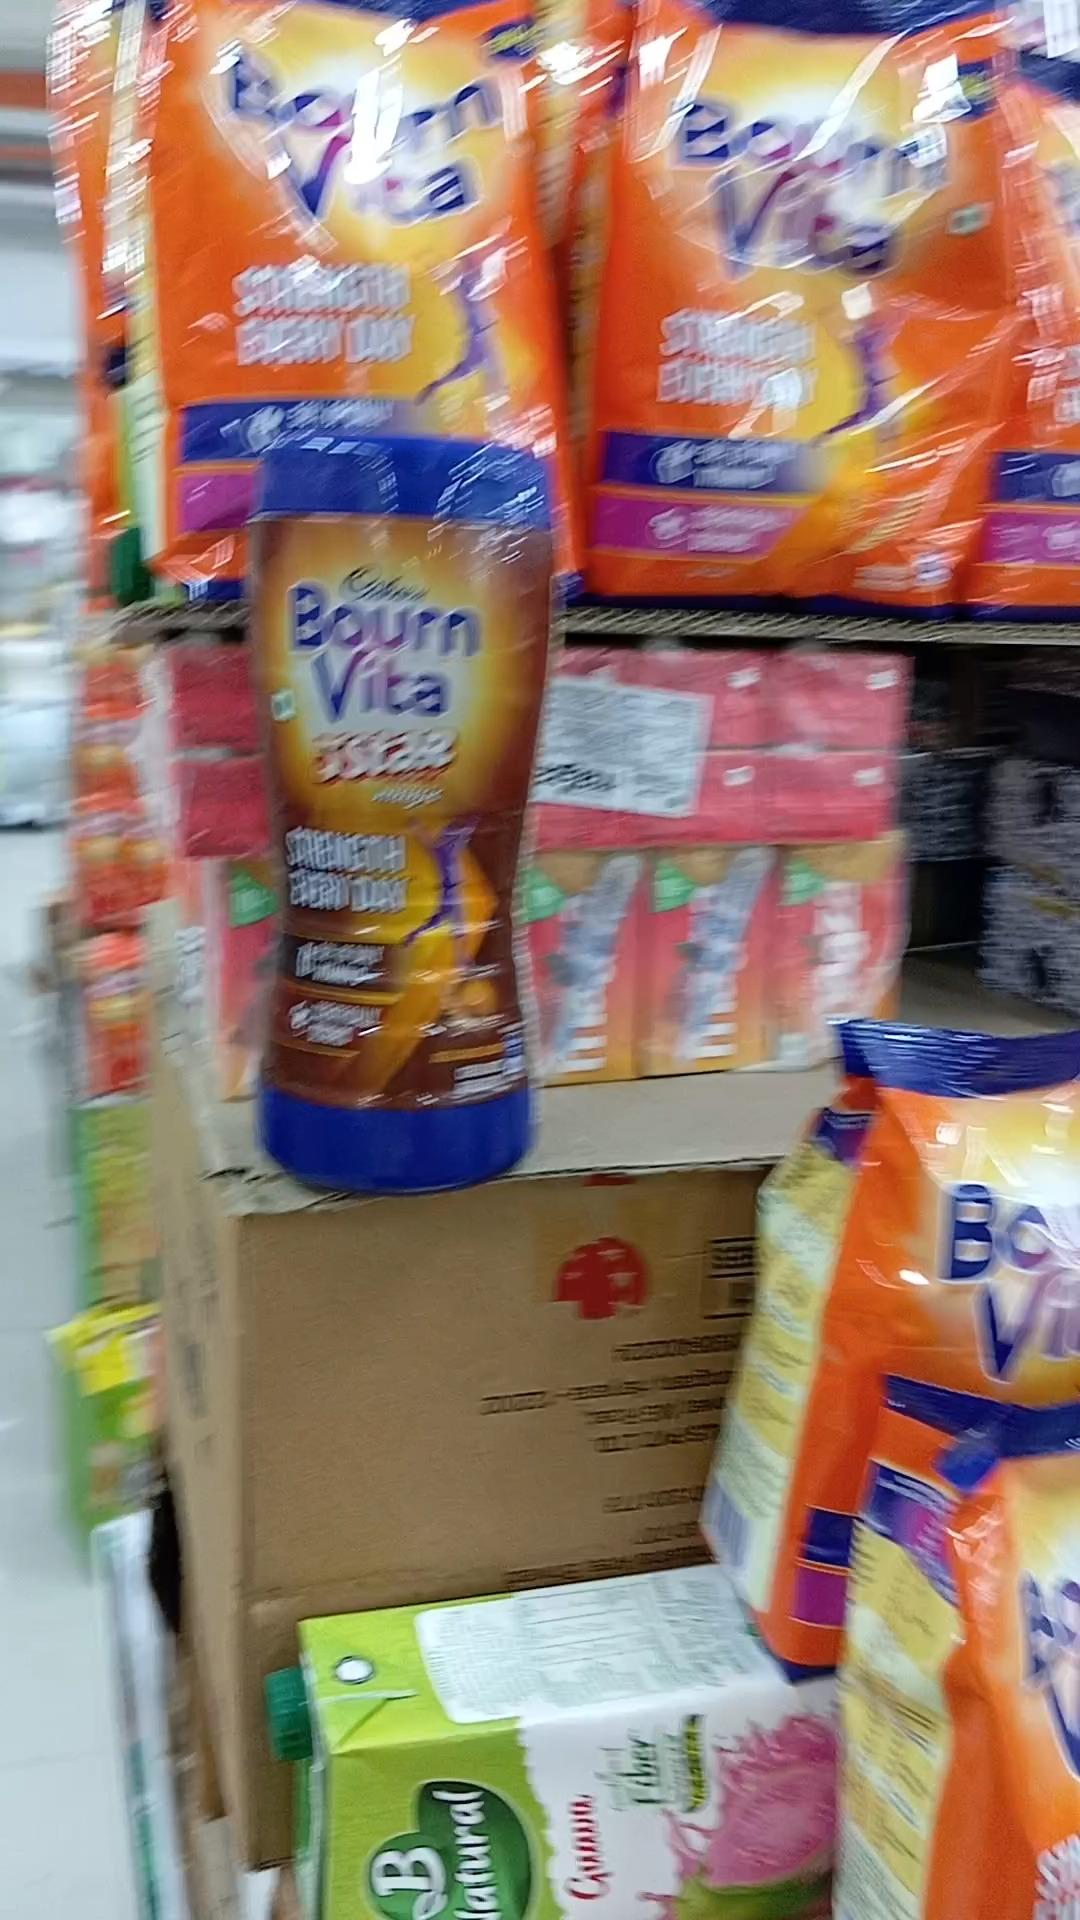BOURN_VITA_FIVE_STAR_MAGIC_500_G_JAR: (256, 419, 556, 1208)
